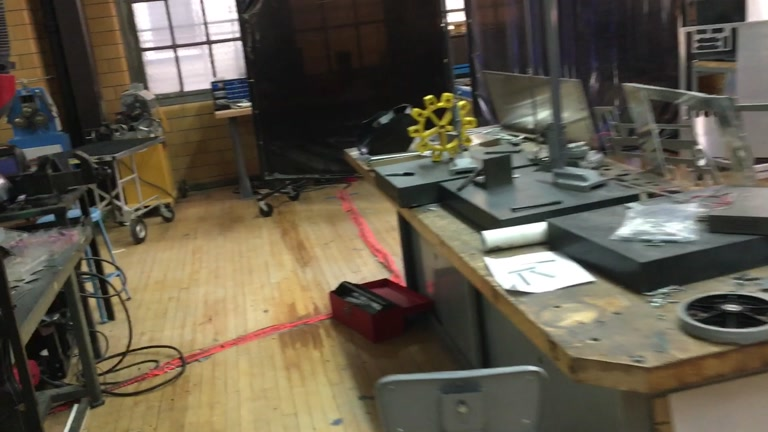gear: (405, 93, 476, 163)
